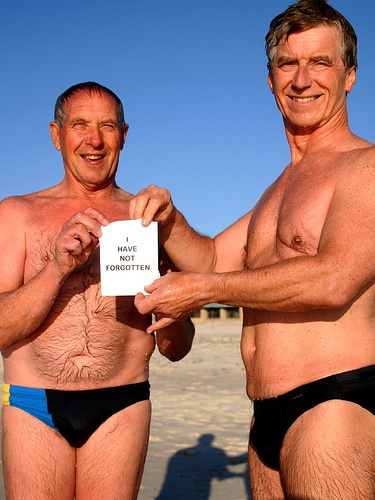head: (264, 1, 358, 131), (43, 78, 137, 208)
person: (133, 10, 369, 500), (1, 82, 185, 492)
